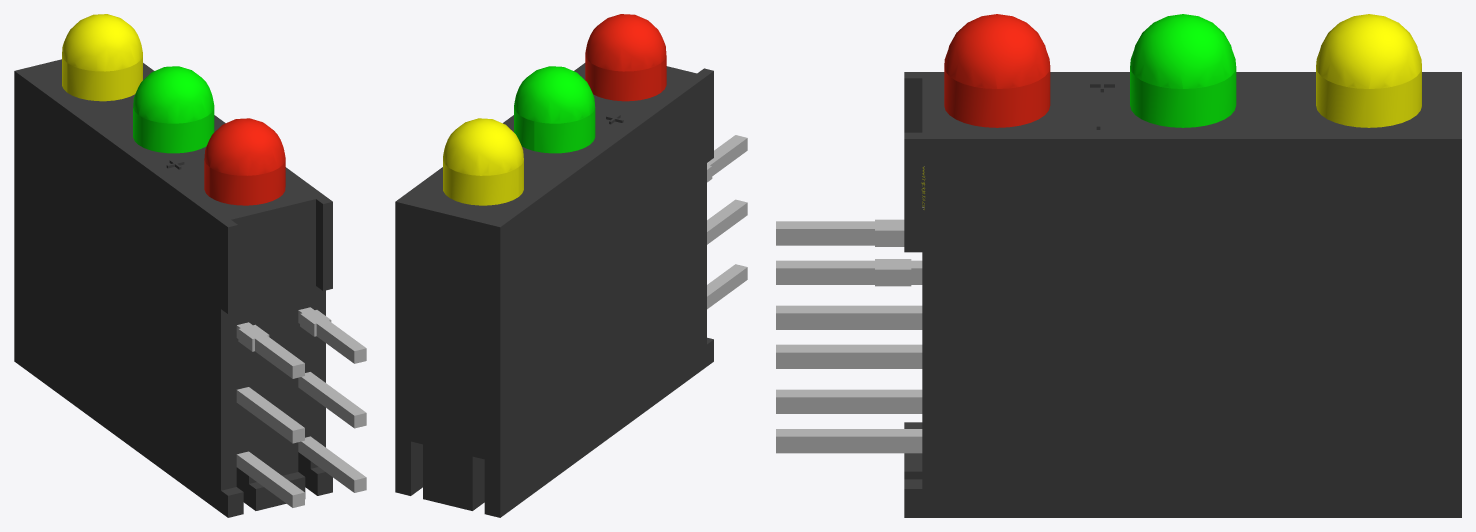
File: sfe-cbi_led_triple_3mm_pth.glb
The picture shows the model from 3 angles, left to right: view 1: azimuth 30°, elevation 25°; view 2: azimuth 150°, elevation 25°; view 3: azimuth 270°, elevation 25°; orthographic projection. The views are drawn at different scales.
Parts seen in each view (by area): view 1: 0.08333333333333333_0.08333333333333333_0.08333333333333333_, 0.5_0.5_0.5_0.85, 0.9166666666666666_0_0_0, 0_1_0_0, 1_1_0_0; view 2: 0.08333333333333333_0.08333333333333333_0.08333333333333333_, 1_1_0_0, 0_1_0_0, 0.9166666666666666_0_0_0, 0.5_0.5_0.5_0.85; view 3: 0.08333333333333333_0.08333333333333333_0.08333333333333333_, 0.5_0.5_0.5_0.85, 0_1_0_0, 0.9166666666666666_0_0_0, 1_1_0_0.
Part boxes in pixels (box(x1,y1,x2,y2)): 0.08333333333333333_0.08333333333333333_0.08333333333333333_: box(14, 59, 332, 517); 0.5_0.5_0.5_0.85: box(236, 307, 366, 507); 0.9166666666666666_0_0_0: box(204, 118, 285, 205); 0_1_0_0: box(133, 66, 214, 153); 1_1_0_0: box(62, 14, 142, 101); 0.08333333333333333_0.08333333333333333_0.08333333333333333_: box(395, 63, 713, 517); 1_1_0_0: box(443, 118, 523, 205); 0_1_0_0: box(514, 66, 595, 153); 0.9166666666666666_0_0_0: box(585, 14, 666, 101); 0.5_0.5_0.5_0.85: box(707, 135, 747, 309); 0.08333333333333333_0.08333333333333333_0.08333333333333333_: box(904, 72, 1461, 517); 0.5_0.5_0.5_0.85: box(776, 219, 922, 453); 0_1_0_0: box(1130, 14, 1236, 127); 0.9166666666666666_0_0_0: box(944, 14, 1050, 127); 1_1_0_0: box(1316, 14, 1421, 127).
Size of the model in its own units: 0.432 by 1.4 by 1.87.
